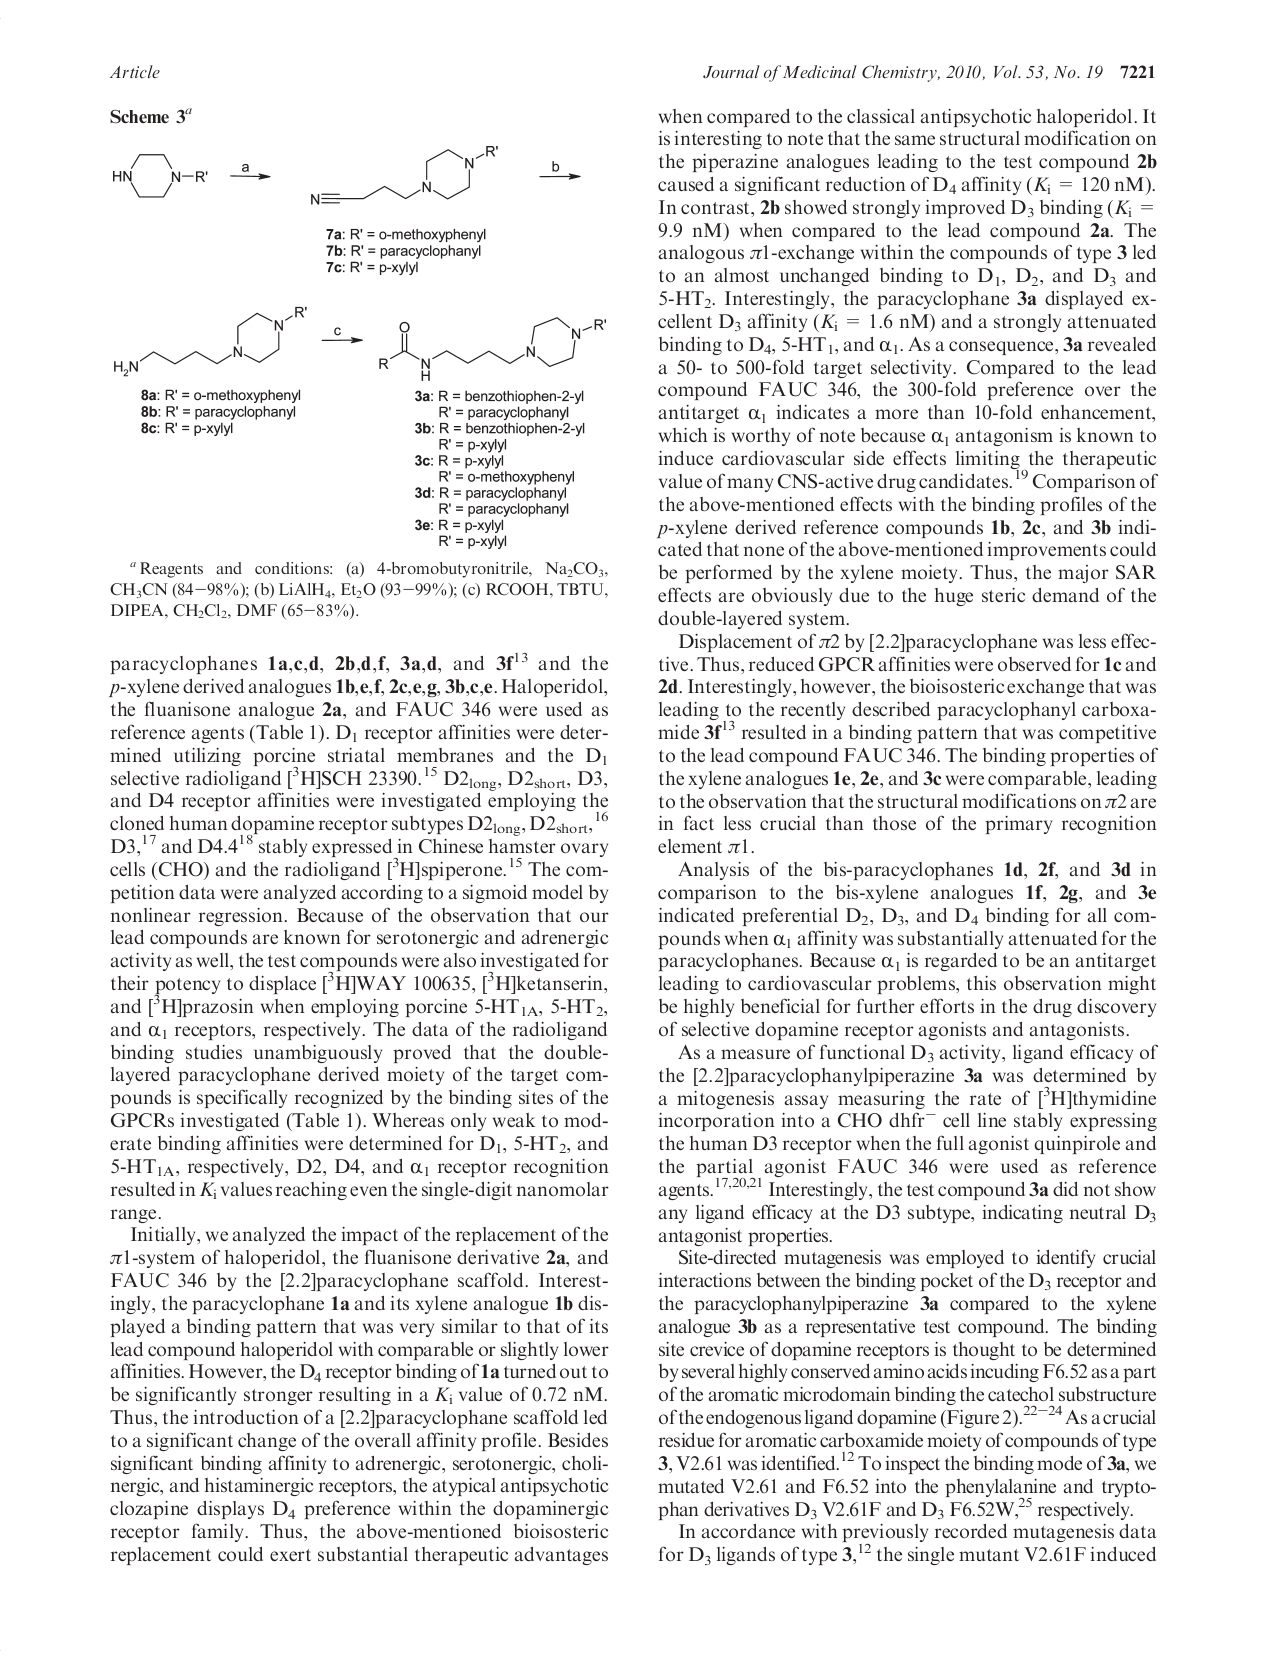exist_molecular: (378, 313, 610, 384), (112, 302, 309, 379), (309, 142, 500, 207), (110, 152, 209, 201)
